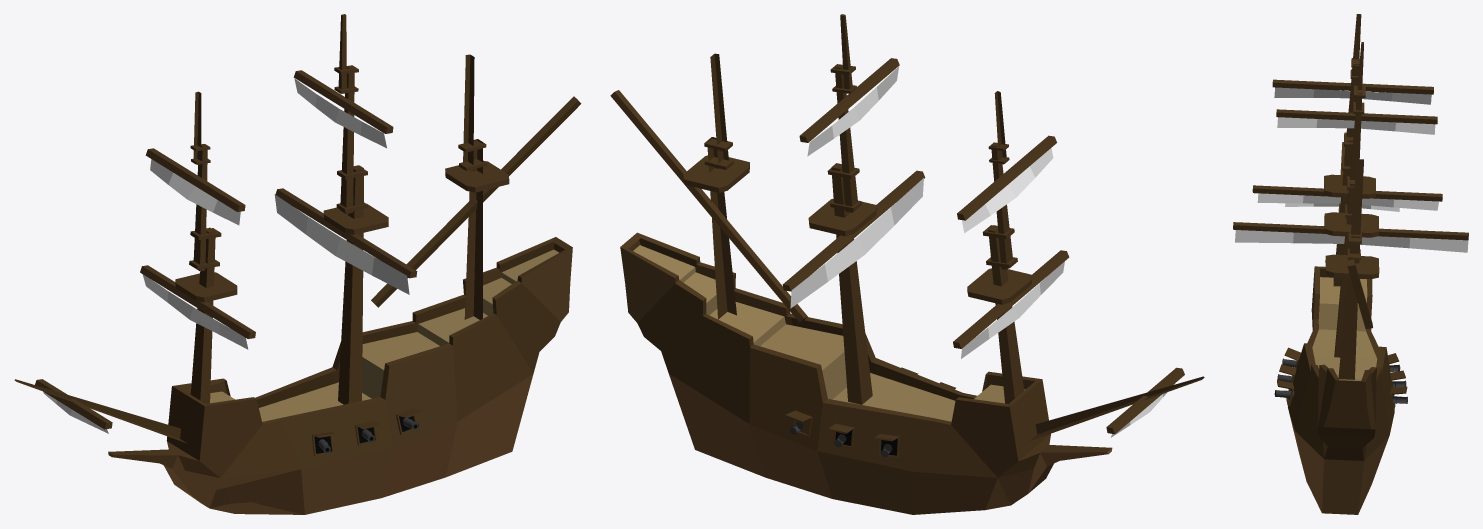
The model's file is galleon.glb.
3 renders of one model, left to right at view 1: azimuth 30°, elevation 25°; view 2: azimuth 150°, elevation 25°; view 3: azimuth 270°, elevation 25°, orthographic. The views are drawn at different scales.
Visible parts, largest first — view 1: hull.001; view 2: hull.001; view 3: hull.001.
Boxes of the visible parts, x1=… form: hull.001: x1=14, y1=14, x2=581, y2=514; hull.001: x1=610, y1=14, x2=1204, y2=514; hull.001: x1=1233, y1=14, x2=1468, y2=514.
Bounding box in the file's own units: 3.3 × 2.57 × 1.33.
